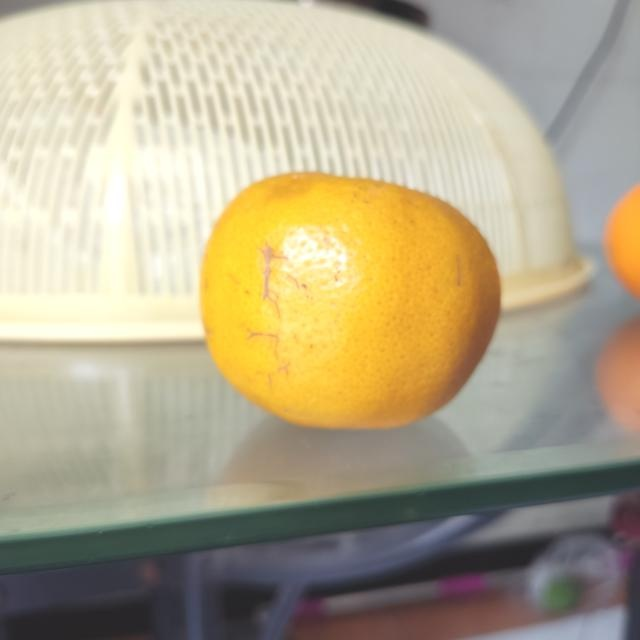agrume: (194, 169, 503, 432)
